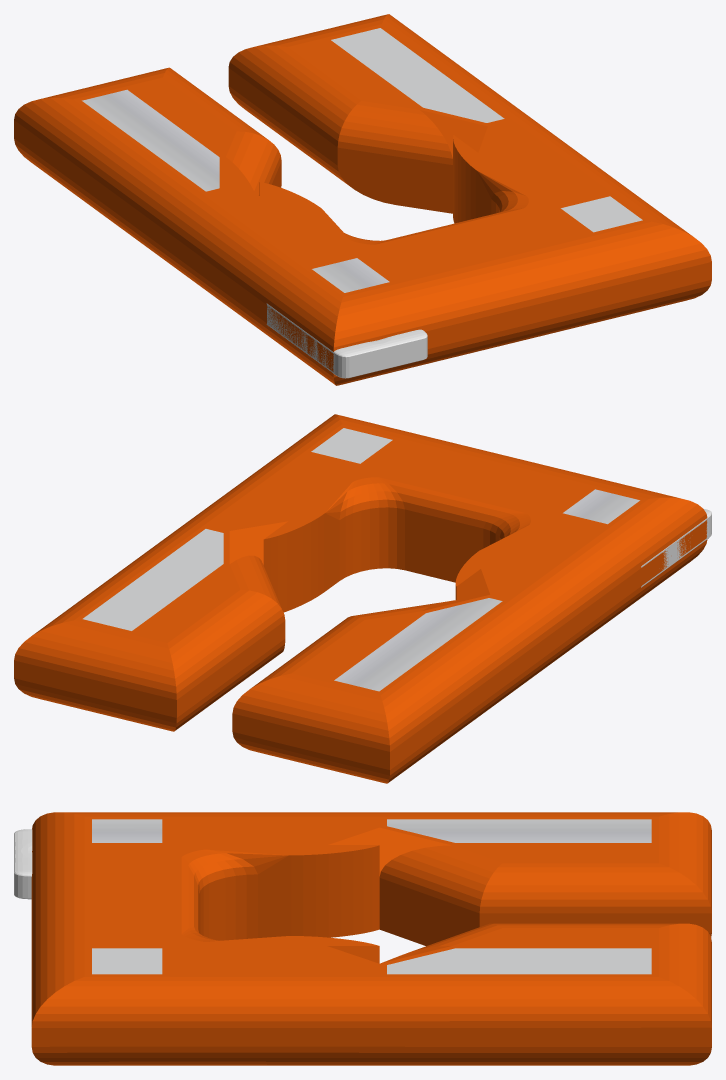
Rendered from chaleco.fbx.
3 views of the same model, one above another, from view 1: azimuth 30°, elevation 25°; view 2: azimuth 150°, elevation 25°; view 3: azimuth 270°, elevation 25° (orthographic). The views are drawn at different scales.
Parts seen in each view (by area): view 1: Cube, Cube.001; view 2: Cube, Cube.001; view 3: Cube, Cube.001.
Part boxes in pixels (x1,y1,x2,y2): Cube: [14, 14, 711, 385]; Cube.001: [266, 303, 427, 378]; Cube: [14, 414, 707, 783]; Cube.001: [641, 508, 711, 587]; Cube: [31, 812, 711, 1065]; Cube.001: [14, 829, 32, 899].
Bounding box in the file's own units: 843 × 168 × 1265.
Materials: 2 (1 with a texture image).
